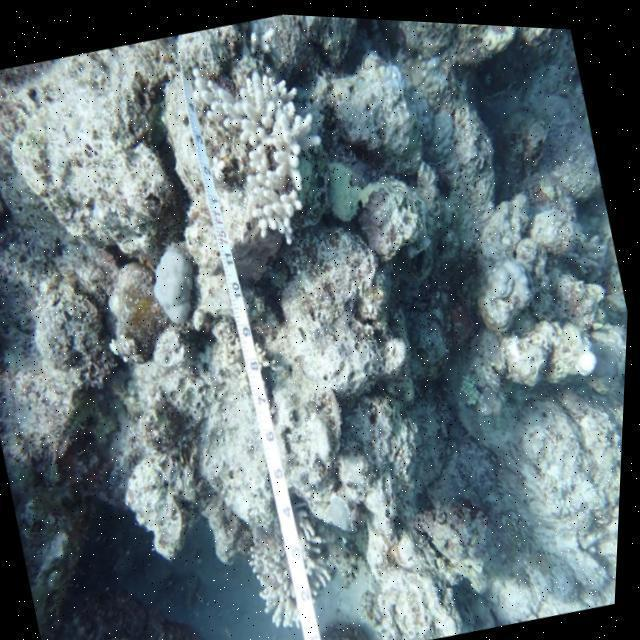Bleached Coral: (168, 35, 350, 268), (227, 499, 357, 632), (130, 212, 224, 354)
